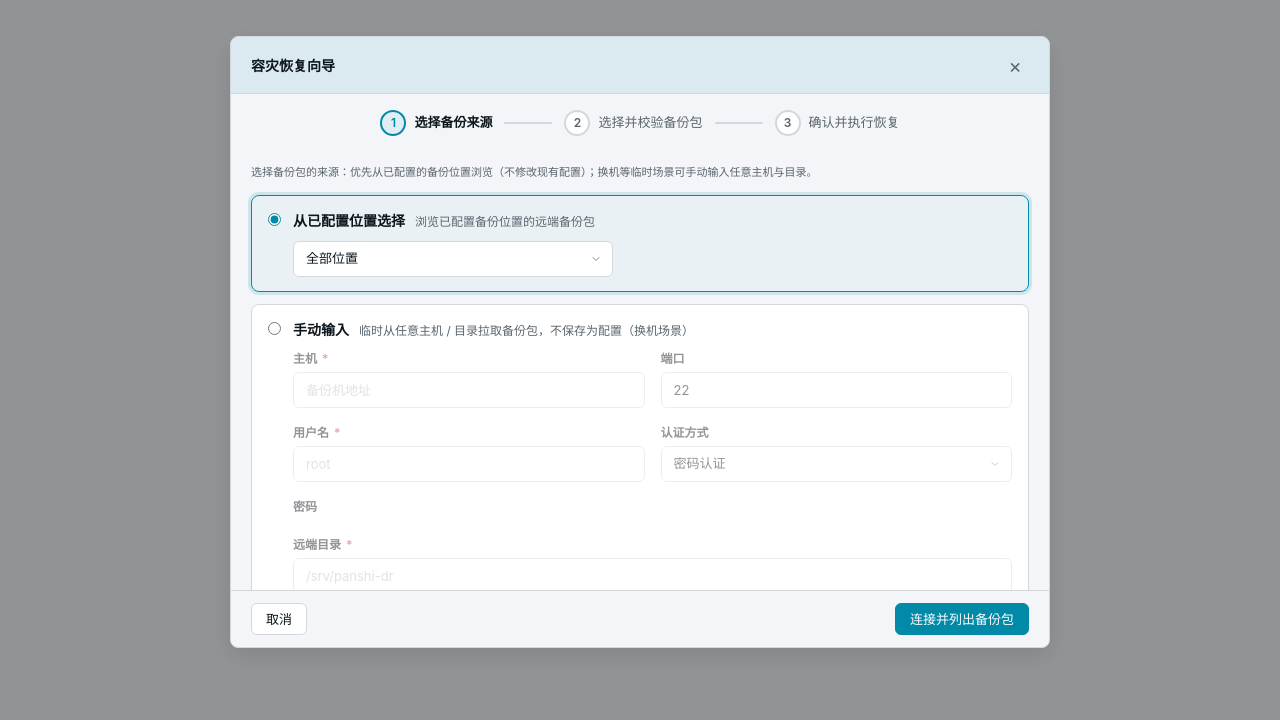
Test case: H4 多位置校验来源显式选择 › 多位置：点击校验先弹来源选择（默认首项），确认后按所选位置校验并标注来源
This screenshot has width=1280, height=720.
Click the button "连接并列出备份包".
click(962, 619)  # box [895,603,1029,635]
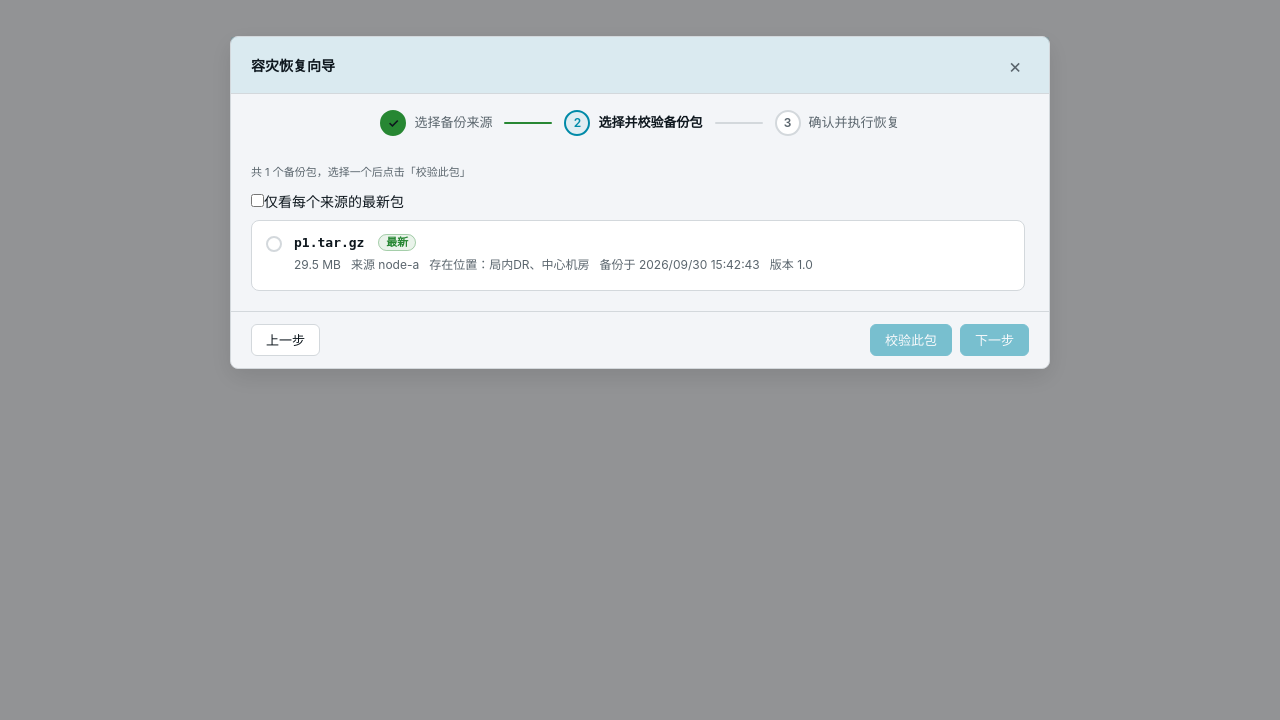
Click the radio button with class "dbw-pkg".
click(638, 255)  # box [251,220,1025,291]
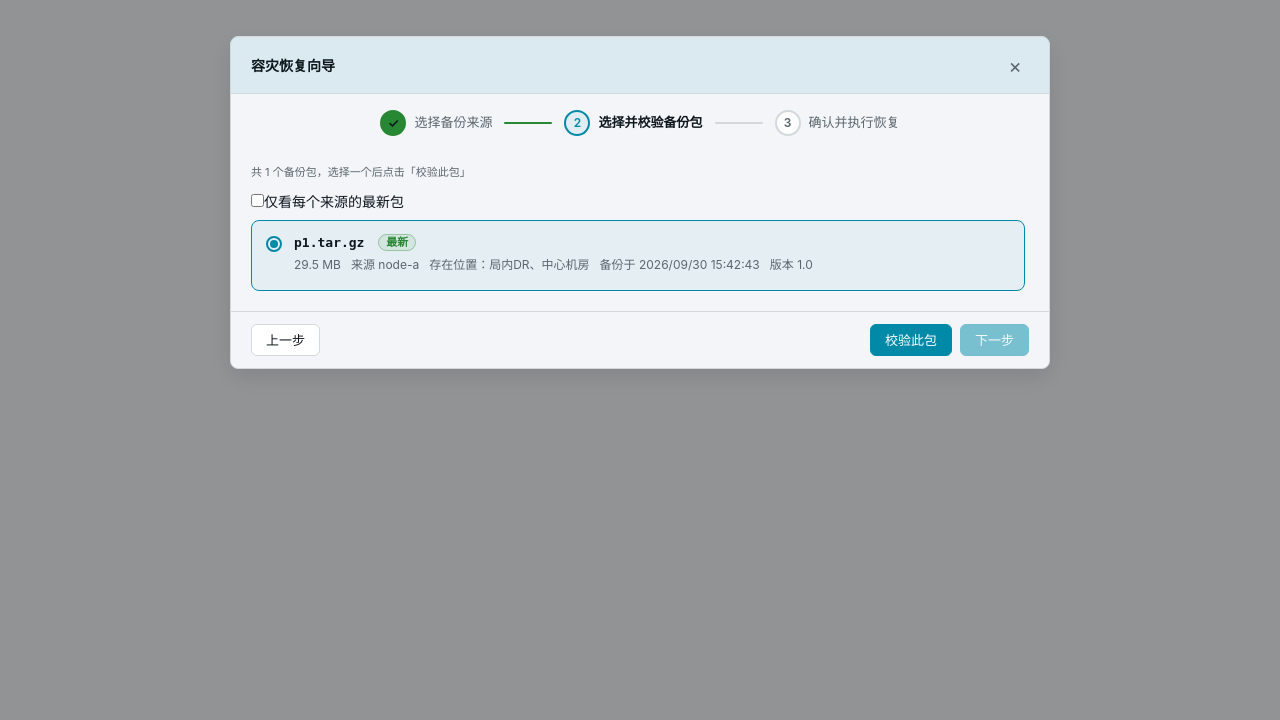
Expected: the button "校验此包" is shown
Click the button "校验此包".
click(911, 340)  # box [870,324,952,356]
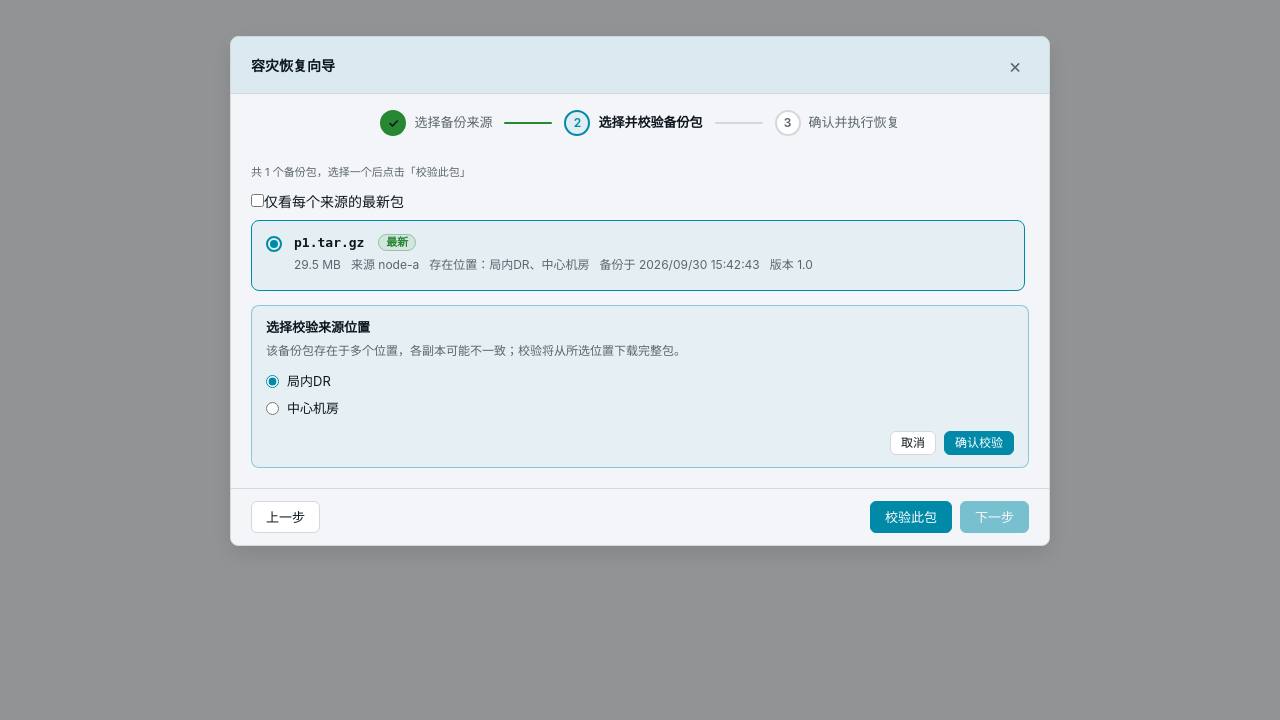
Expected: the element with class "dbw-verify-chooser" is shown, [251,305,1029,468]
Expected: the radio button labelled "局内DR" is checked, [266,375,279,388]
Click the radio button labelled "中心机房".
click(272, 409)  # box [266,402,279,415]
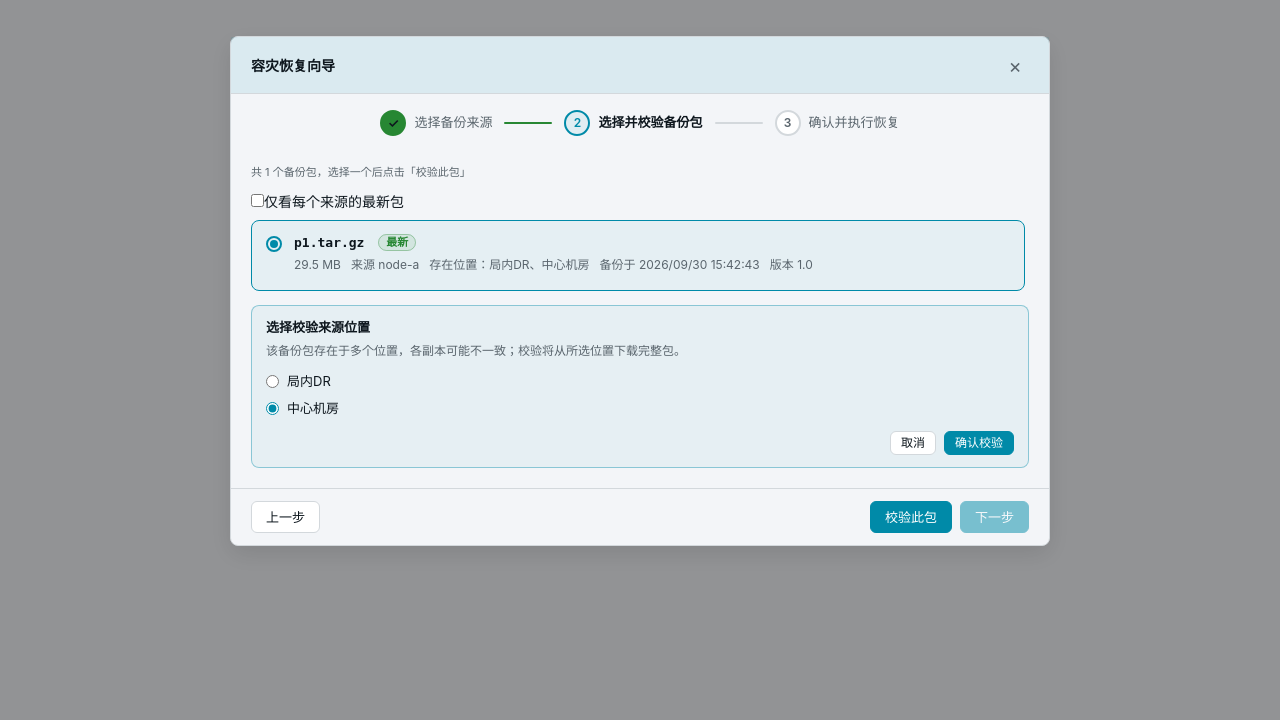
Expected: the button "确认校验" is shown
Click the button "确认校验".
click(979, 443)  # box [944,430,1014,455]
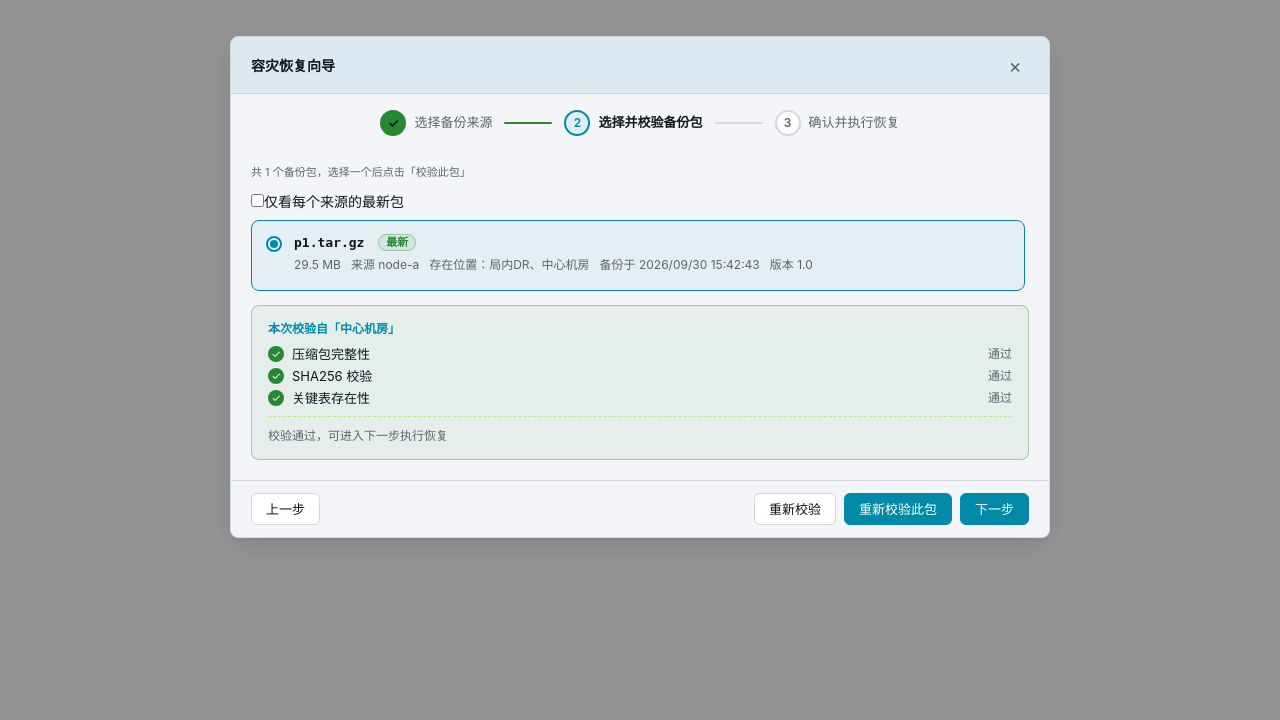
Expected: the text with class "dbw-verify-src" reads "本次校验自「中心机房」", [268,321,400,336]
